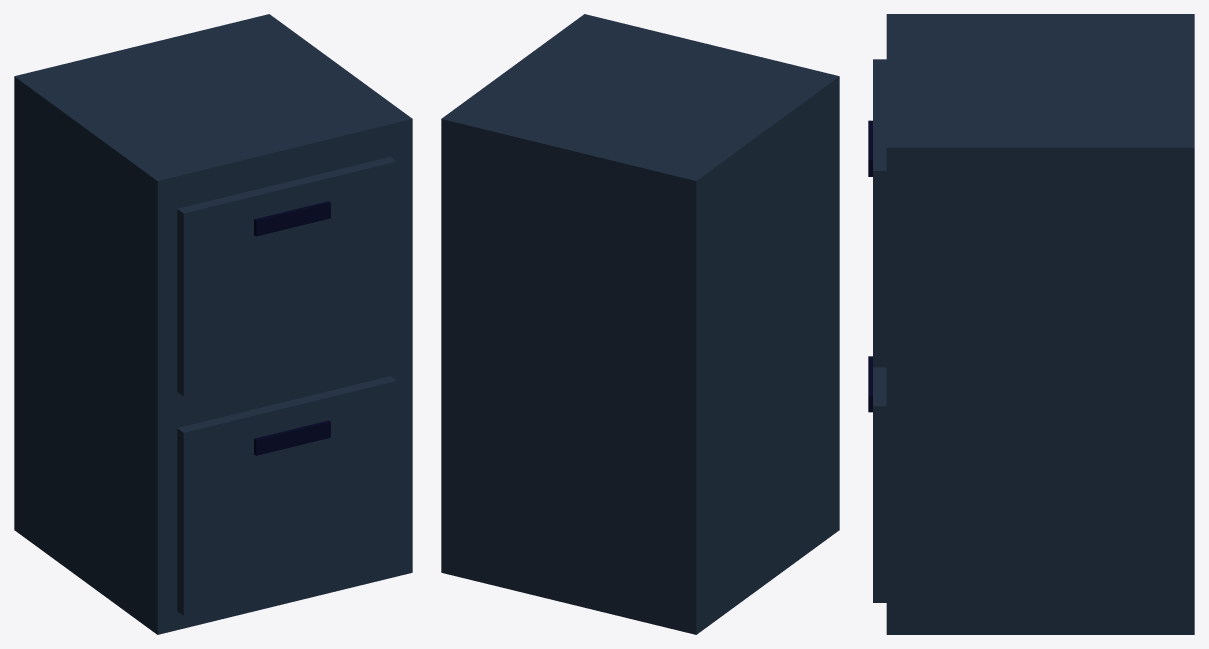
Rendered from COLORcabinetMesh.fbx.
3 views of the same model, side by side, from view 1: azimuth 30°, elevation 25°; view 2: azimuth 150°, elevation 25°; view 3: azimuth 270°, elevation 25° (orthographic). The views are drawn at different scales.
Visible parts, largest first — view 1: polySurface4; view 2: polySurface4; view 3: polySurface4.
Boxes of the visible parts, bbox=[...] form: polySurface4: bbox=[14, 14, 412, 634]; polySurface4: bbox=[441, 14, 839, 634]; polySurface4: bbox=[868, 14, 1194, 634].
Bounding box in the file's own units: 0.8604 × 1.46 × 0.8867.
